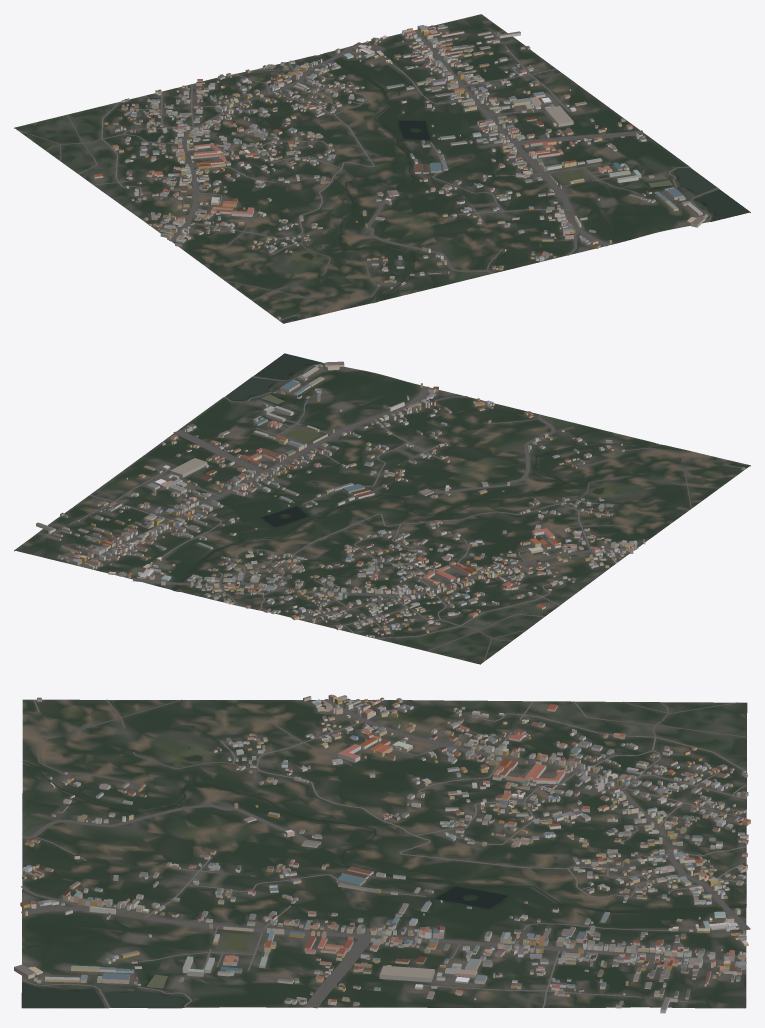
3 views of the same model, one above another, from view 1: azimuth 30°, elevation 25°; view 2: azimuth 150°, elevation 25°; view 3: azimuth 270°, elevation 25° (orthographic). The views are drawn at different scales.
Parts seen in each view (by area): view 1: ground, buildings, roads, water; view 2: ground, buildings, roads, water; view 3: ground, buildings, roads, water.
Part boxes in pixels (bbox=[...]): ground: bbox=[14, 14, 750, 323]; buildings: bbox=[93, 24, 707, 319]; roads: bbox=[17, 30, 718, 320]; water: bbox=[294, 54, 749, 302]; ground: bbox=[14, 354, 750, 664]; buildings: bbox=[36, 361, 744, 637]; roads: bbox=[45, 363, 746, 661]; water: bbox=[174, 353, 658, 590]; ground: bbox=[21, 699, 747, 1008]; buildings: bbox=[14, 694, 750, 1013]; roads: bbox=[21, 699, 750, 1008]; water: bbox=[22, 748, 746, 1007].
Size of the model in its own units: 1434 by 25.98 by 1426.
